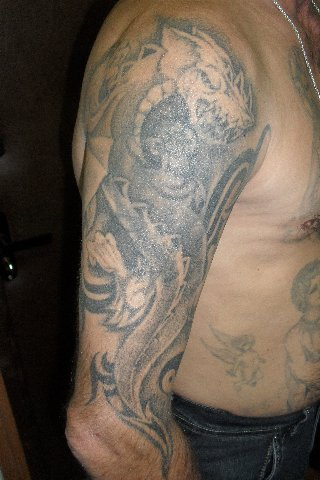tatu6_drakon: (79, 14, 257, 480)
